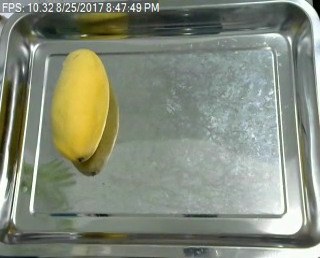Mango: (47, 45, 113, 166)
